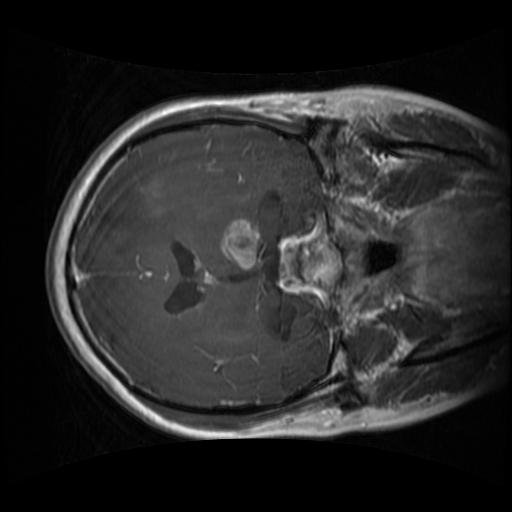glioma: (217, 213, 265, 269)
